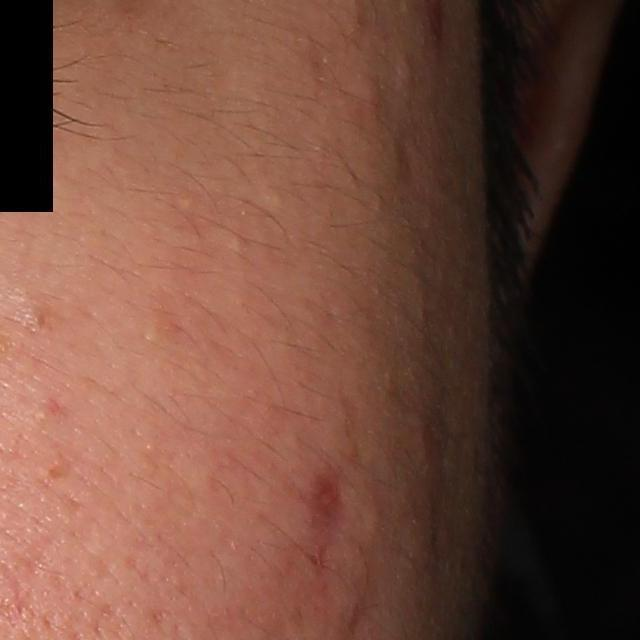atrophic_scar: (310, 469, 359, 538)
papule: (339, 66, 389, 117)
